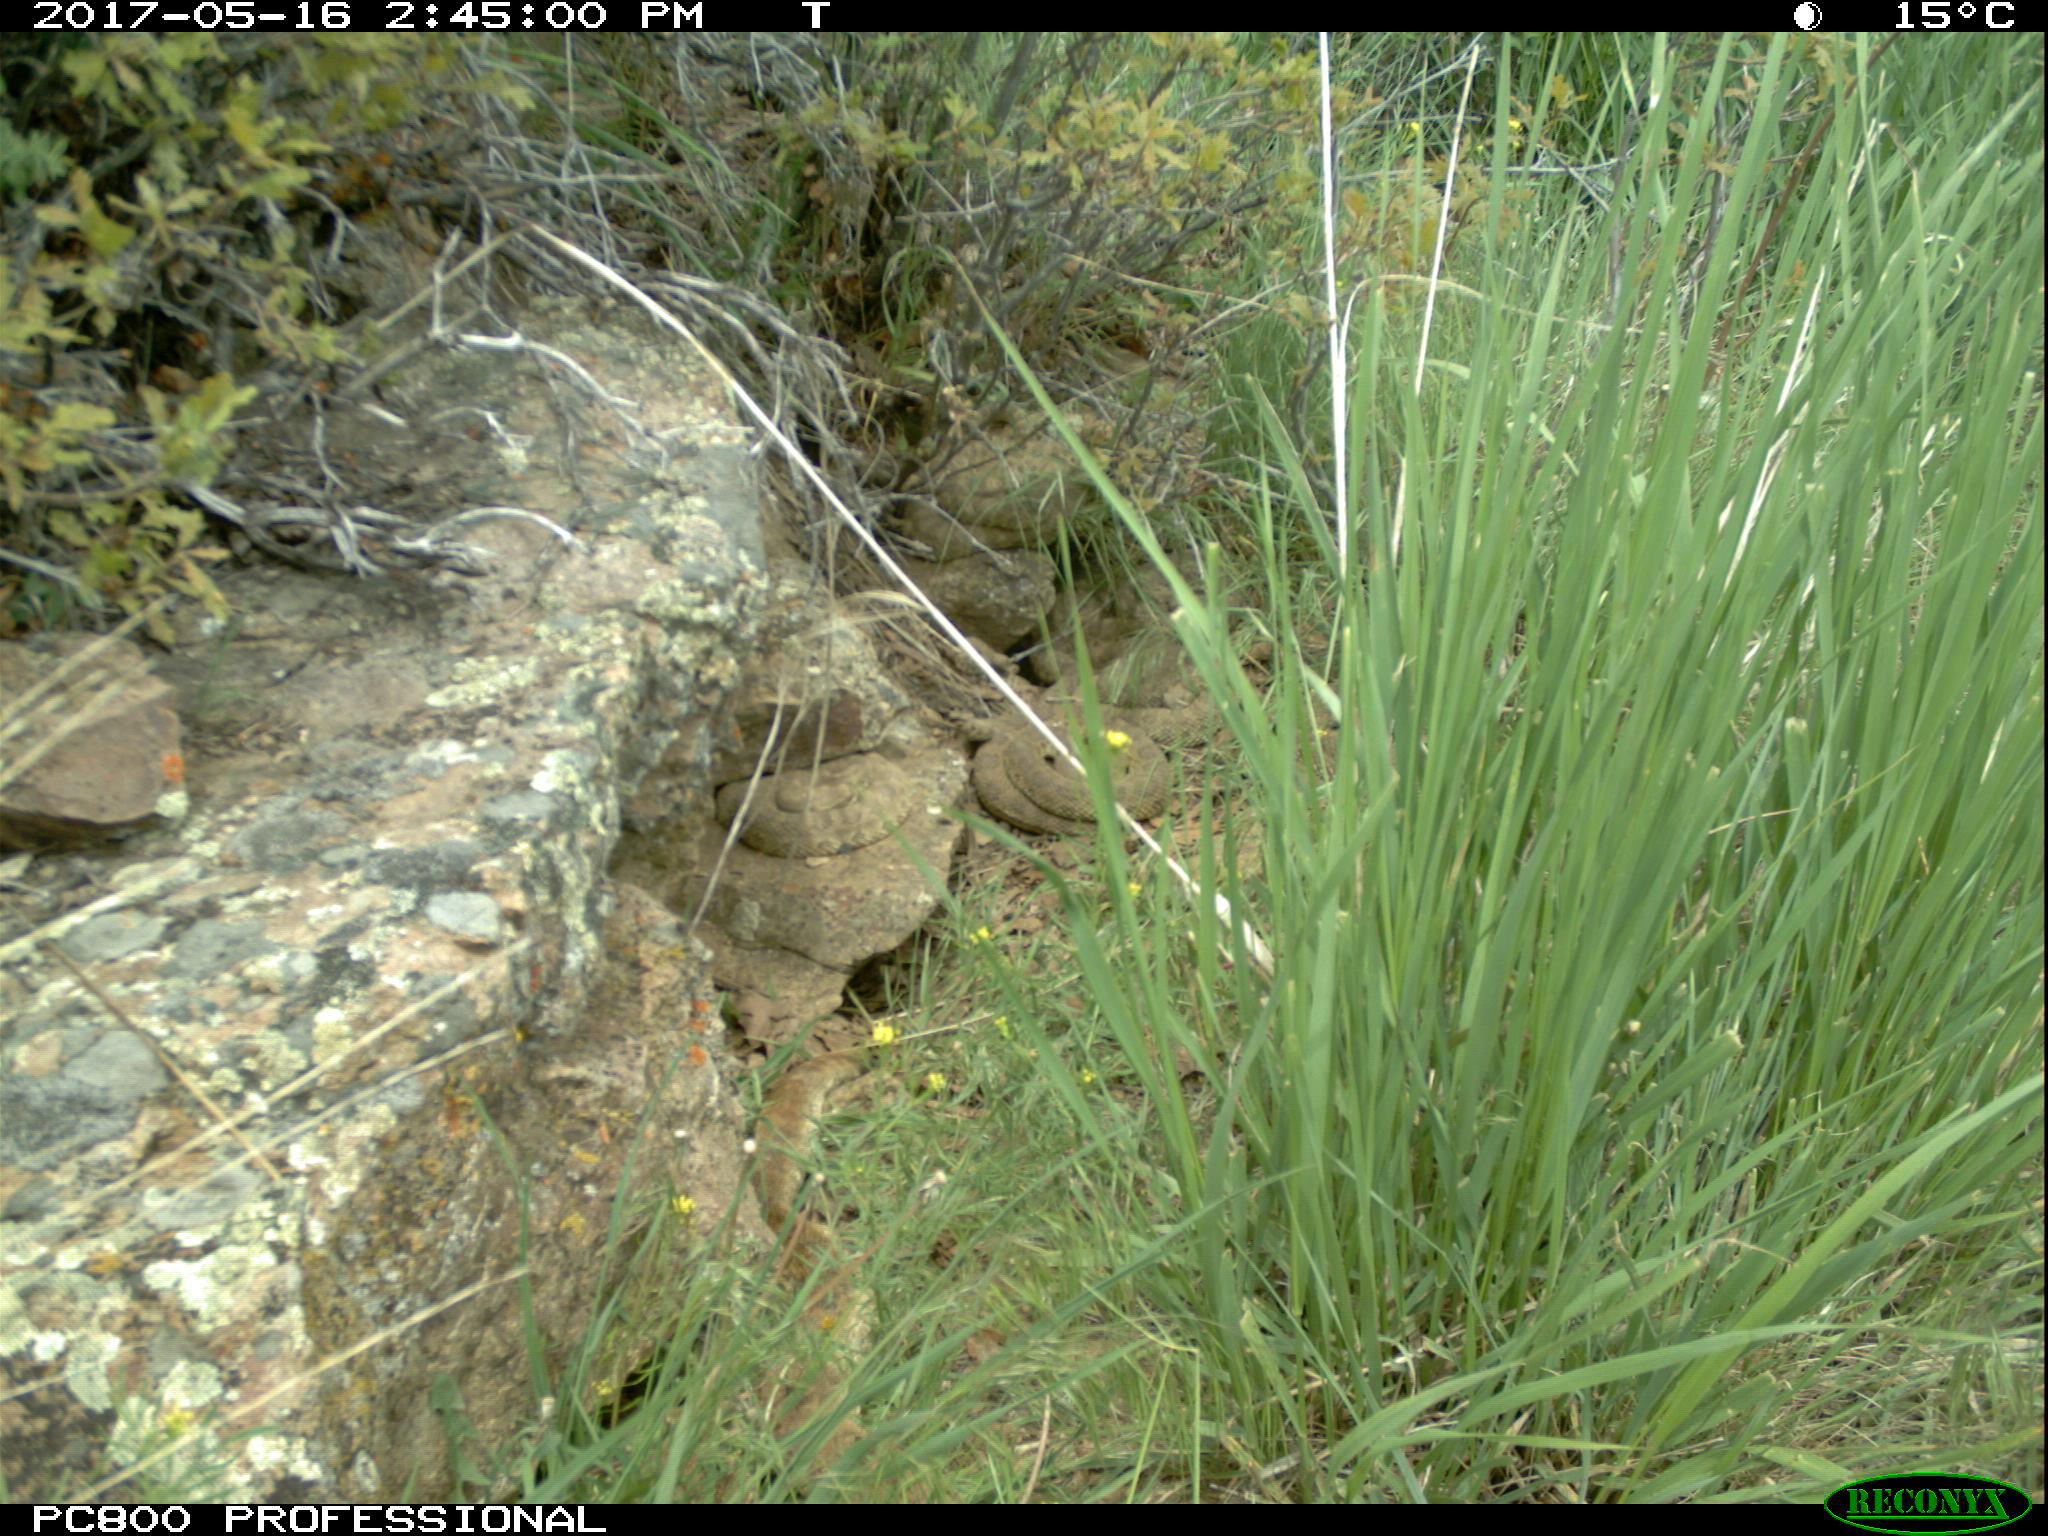snake: (751, 1049, 871, 1484), (971, 703, 1174, 845), (714, 750, 913, 860), (900, 487, 1080, 550)
